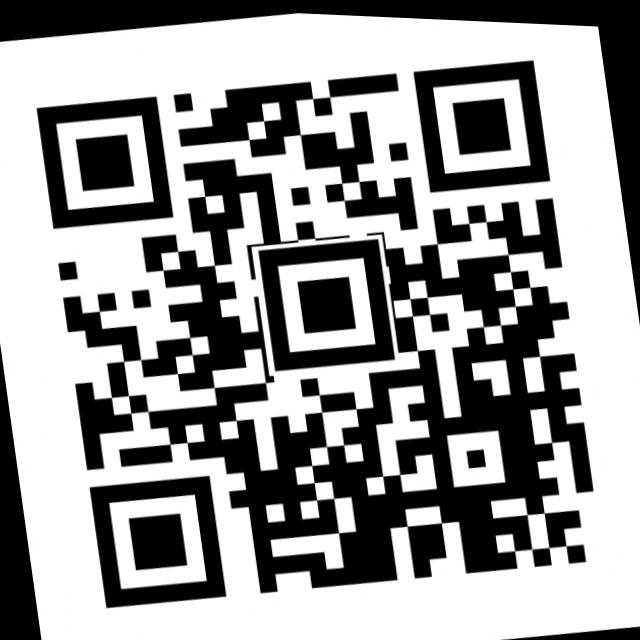QR_CODE: (14, 20, 622, 640)
